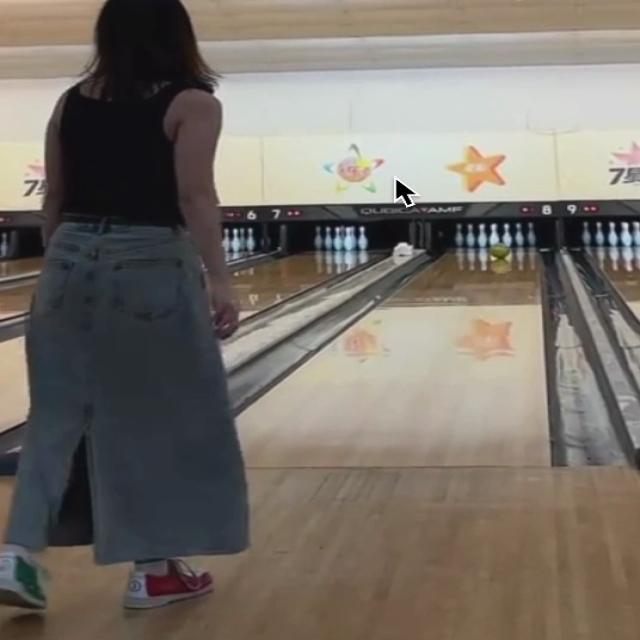alley: (238, 250, 549, 472)
balls: (491, 242, 509, 259)
bottle: (455, 222, 535, 248)
